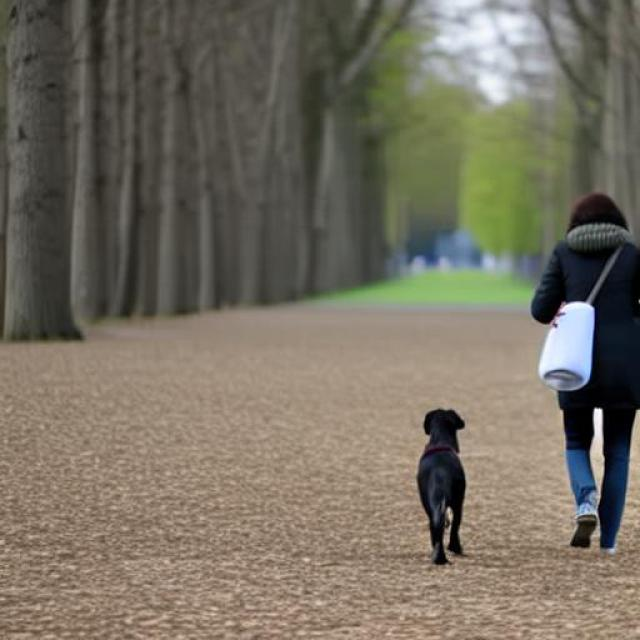Unleashed_Dog: (416, 340, 636, 566)
